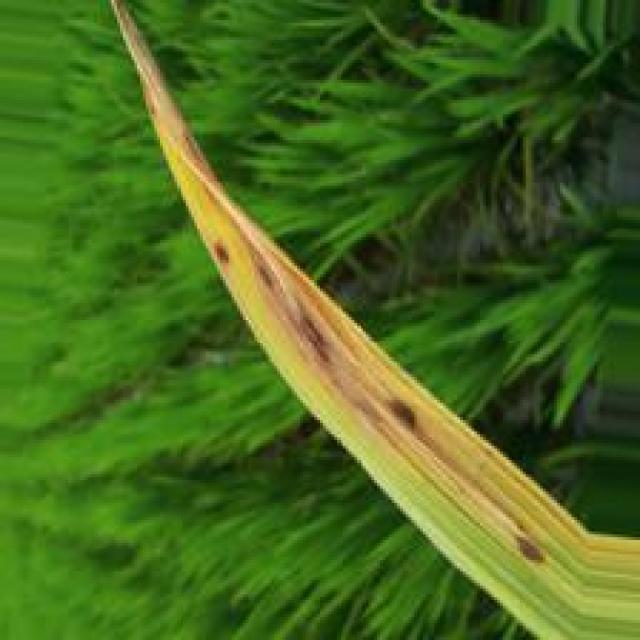Leaf_Blast: (114, 0, 443, 456)
